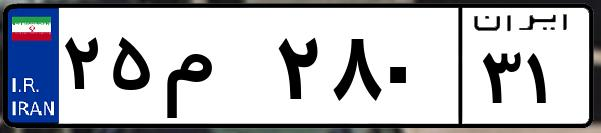0: (385, 28, 445, 110)
1: (525, 38, 570, 115)
2: (270, 28, 330, 110), (57, 26, 110, 100)
3: (475, 38, 525, 113)
5: (110, 28, 158, 98)
8: (330, 28, 385, 110)
م: (158, 20, 270, 120)
